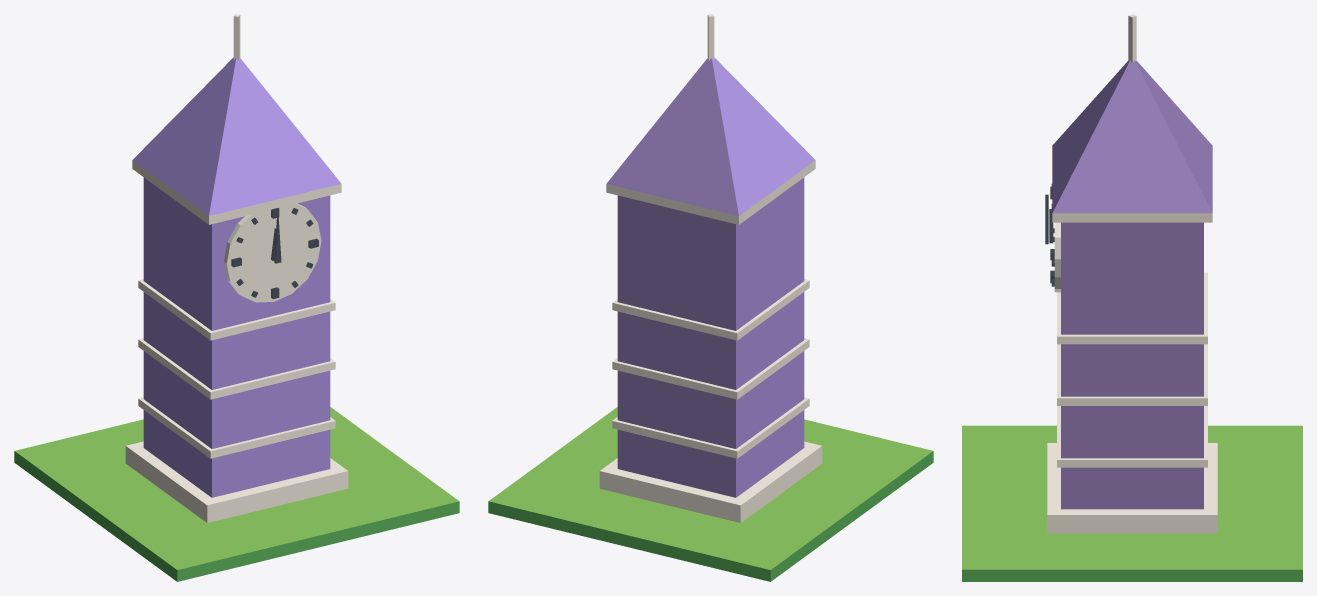
File: skill_measure_clocktower_t3.glb
The picture shows the model from 3 angles, left to right: view 1: azimuth 30°, elevation 25°; view 2: azimuth 150°, elevation 25°; view 3: azimuth 270°, elevation 25°; orthographic projection. The views are drawn at different scales.
Parts seen in each view (by area): view 1: tower, base, clock_face; view 2: tower, base; view 3: tower, base, clock_face.
Part boxes in pixels (box(x1,y1,x2,y2)): tower: box(125, 14, 348, 522); base: box(14, 407, 459, 581); clock_face: box(224, 203, 321, 302); tower: box(599, 14, 822, 522); base: box(488, 407, 933, 581); tower: box(1047, 14, 1217, 533); base: box(962, 425, 1302, 581); clock_face: box(1050, 184, 1060, 292).
Bounding box in the file's own units: 1 × 1.6 × 1.
